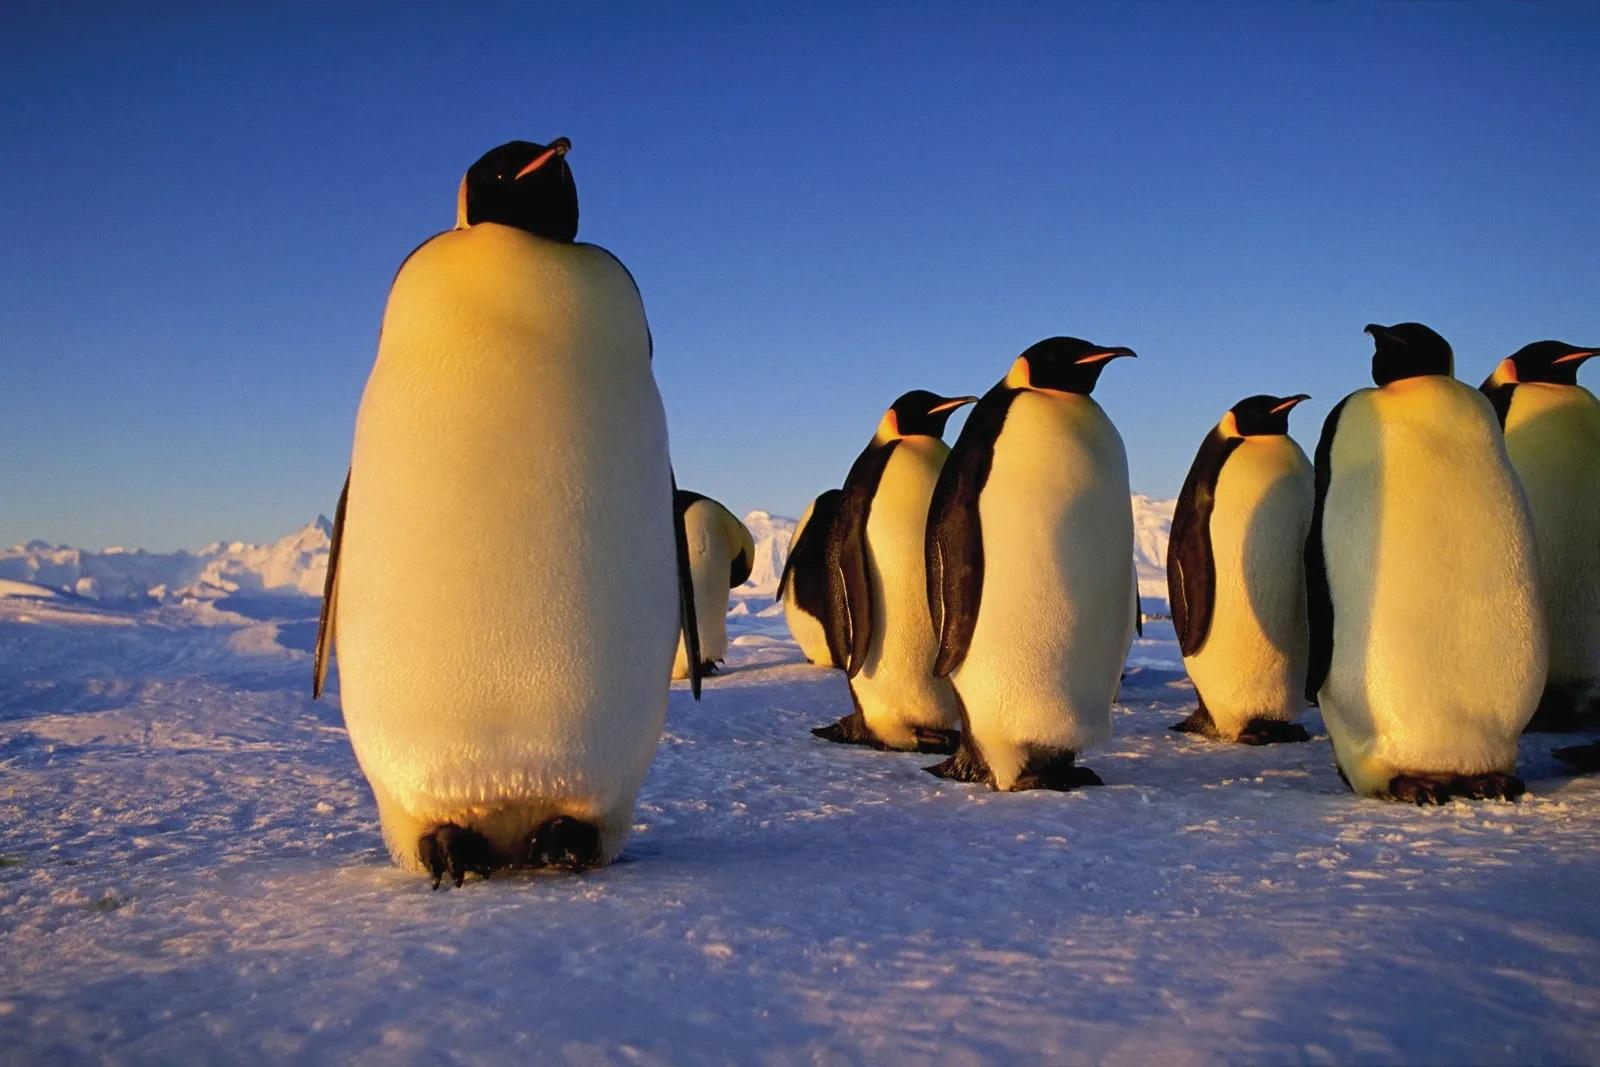emporer: (265, 65, 760, 907), (890, 285, 1162, 857), (1286, 280, 1539, 819)
